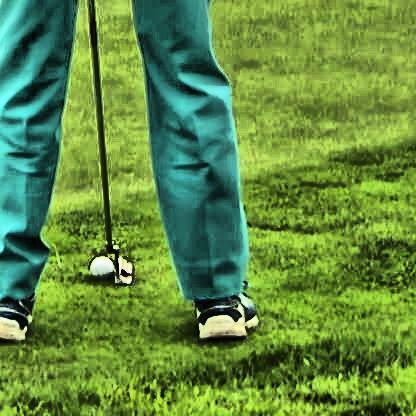golfball: (89, 253, 108, 275)
